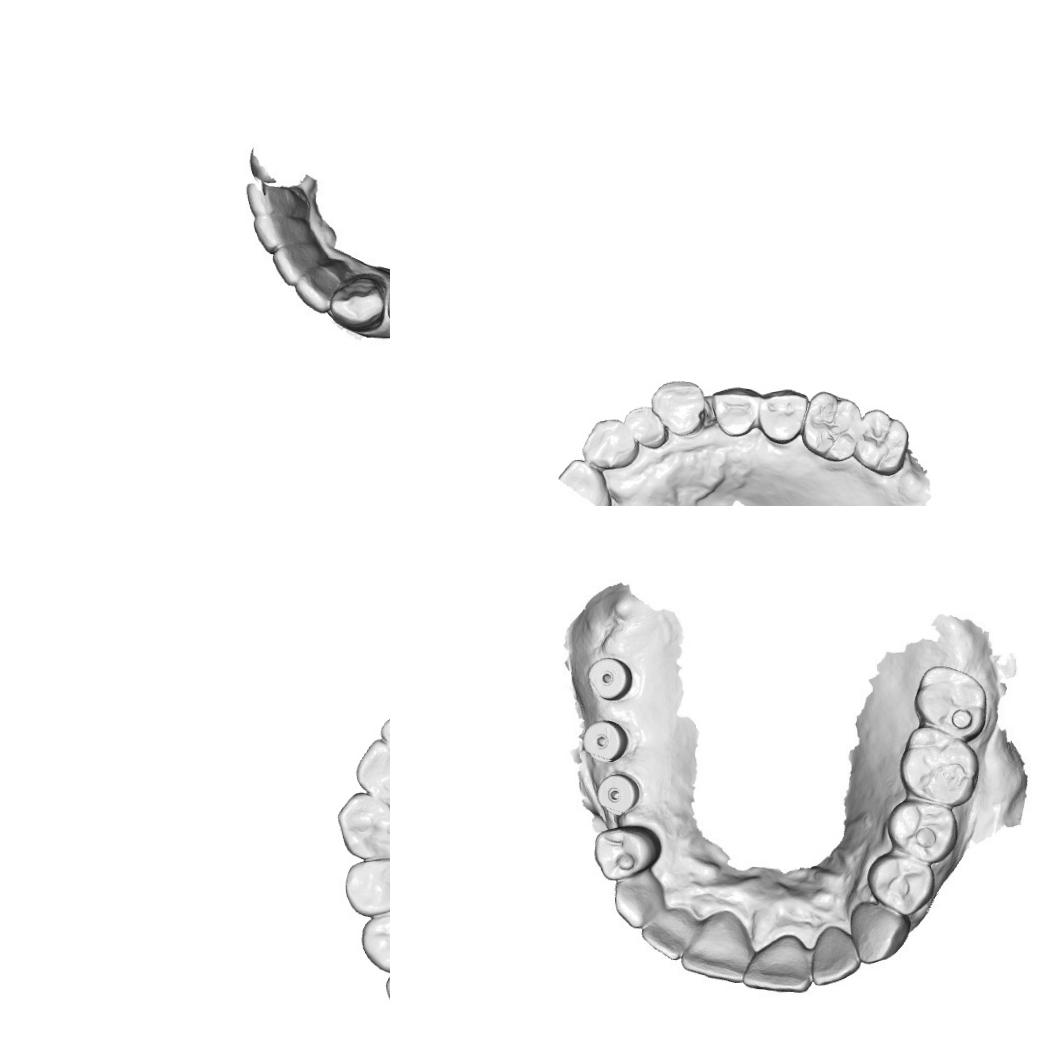canine: (334, 790, 390, 860), (326, 271, 388, 334), (850, 900, 907, 964), (649, 378, 708, 438), (613, 871, 668, 926)
implant: (585, 650, 637, 708), (590, 770, 645, 822), (580, 718, 633, 768)
incisor: (683, 914, 747, 978), (744, 937, 809, 997), (580, 417, 640, 472), (810, 922, 860, 983), (250, 211, 318, 254), (291, 262, 347, 314), (269, 242, 330, 288), (642, 909, 696, 958), (353, 736, 390, 801), (624, 404, 670, 450)
molar: (898, 720, 977, 805), (914, 664, 986, 736), (798, 389, 864, 464), (852, 406, 911, 478), (359, 909, 390, 974)
premolar: (868, 849, 933, 914), (892, 798, 956, 860), (594, 824, 655, 877), (757, 386, 810, 444), (341, 857, 390, 916), (710, 384, 760, 439)
